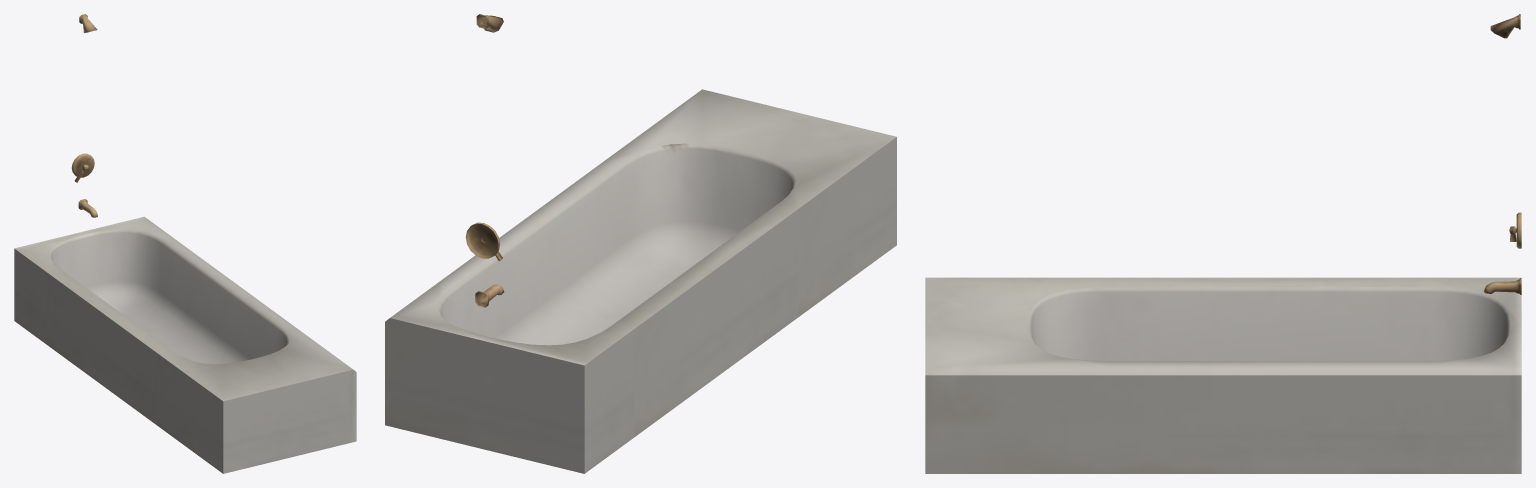
The model's file is T_BathTub.FBX.
3 renders of one model, left to right at view 1: azimuth 30°, elevation 25°; view 2: azimuth 150°, elevation 25°; view 3: azimuth 270°, elevation 25°, orthographic. The views are drawn at different scales.
Parts seen in each view (by area): view 1: T_BathTub; view 2: T_BathTub; view 3: T_BathTub.
Part boxes in pixels (x1,y1,x2,y2): T_BathTub: (14,14,356,473); T_BathTub: (385,14,896,473); T_BathTub: (925,14,1521,473).
Bounding box in the file's own units: 84.77 × 176 × 230.
